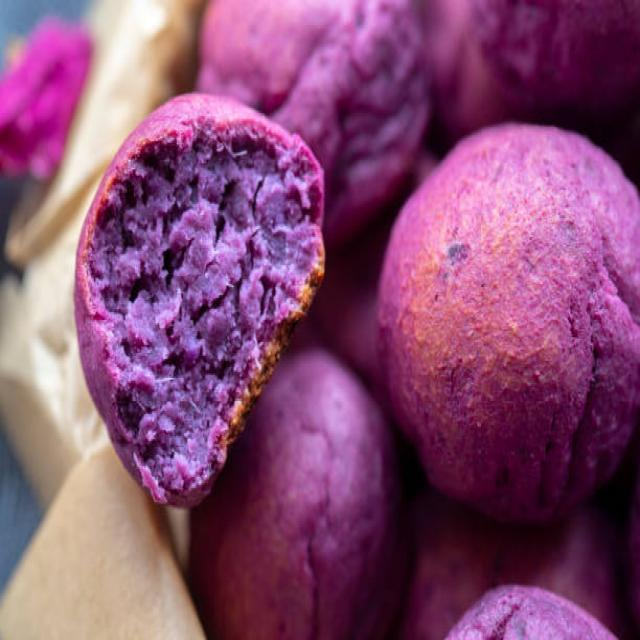Sweet Potato: (376, 119, 640, 515), (69, 93, 323, 501)
